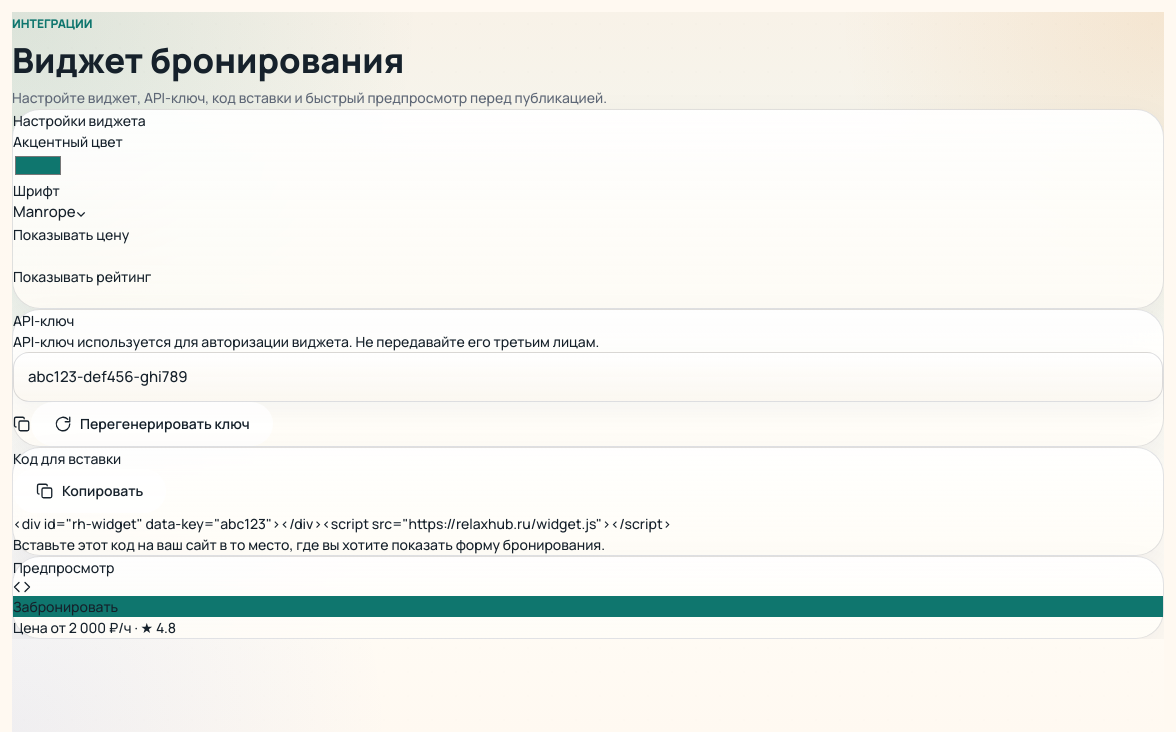
Test: WidgetSettings › shows regenerate confirmation
The image size is (1176, 732).
Click the button "Перегенерировать ключ".
click(152, 424)  # box [31, 402, 273, 446]
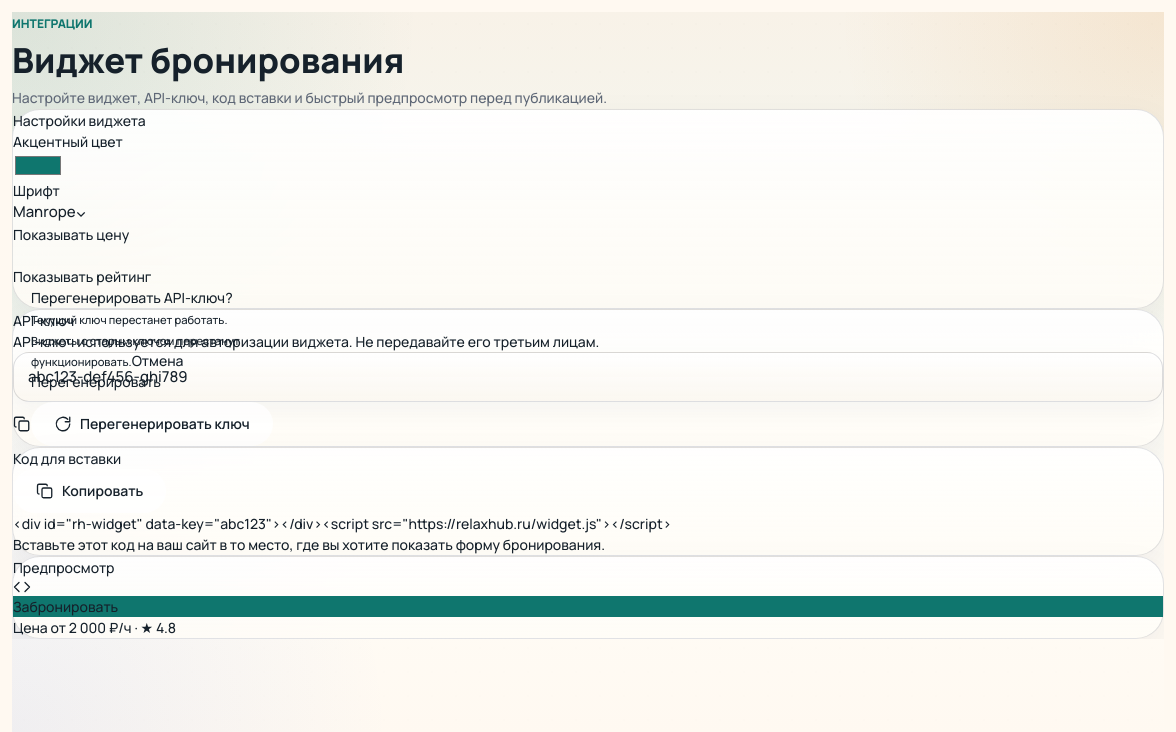
expect the text "Перегенерировать API-ключ?" is shown: met, box [31, 288, 233, 307]
